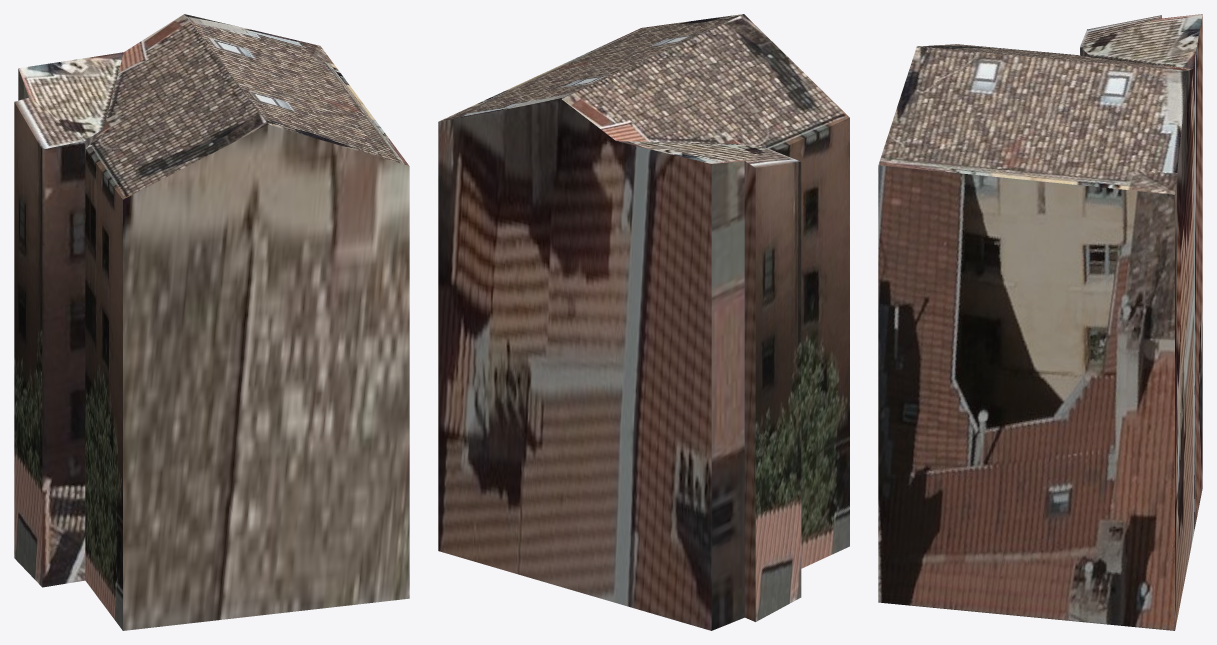
3 views of the same model, side by side, from view 1: azimuth 30°, elevation 25°; view 2: azimuth 150°, elevation 25°; view 3: azimuth 270°, elevation 25° (orthographic).
Parts seen in each view (by area): view 1: Z_UP; view 2: Z_UP; view 3: Z_UP.
Part boxes in pixels (x1=…): Z_UP: x1=14, y1=14, x2=409, y2=630; Z_UP: x1=438, y1=14, x2=849, y2=630; Z_UP: x1=878, y1=14, x2=1202, y2=630.
Bounding box in the file's own units: 13.58 × 19.79 × 11.73.
2 materials, 1 textured.
